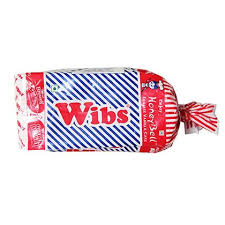bread: (14, 62, 221, 164)
